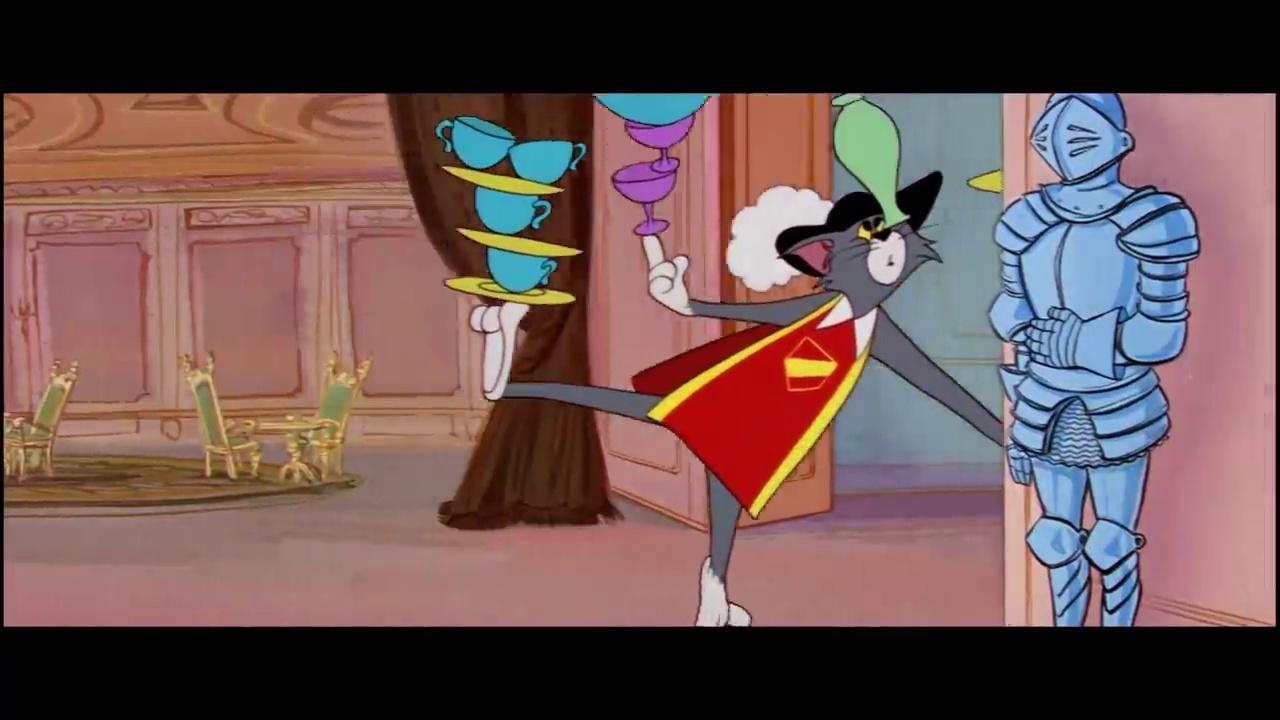Tom: (468, 208, 1004, 626)
